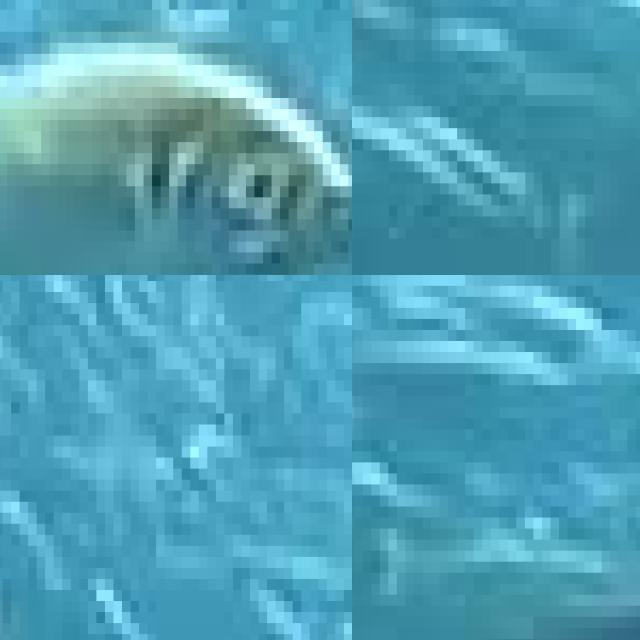fish: (0, 0, 352, 275), (258, 275, 352, 640)
